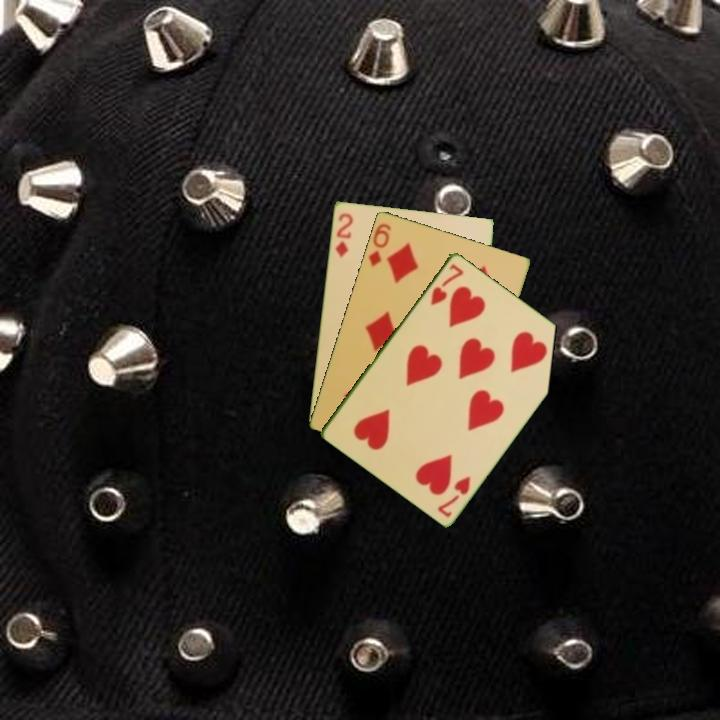2d: (331, 209, 355, 260)
6d: (364, 219, 394, 269)
7h: (427, 260, 466, 308), (434, 472, 473, 520)
